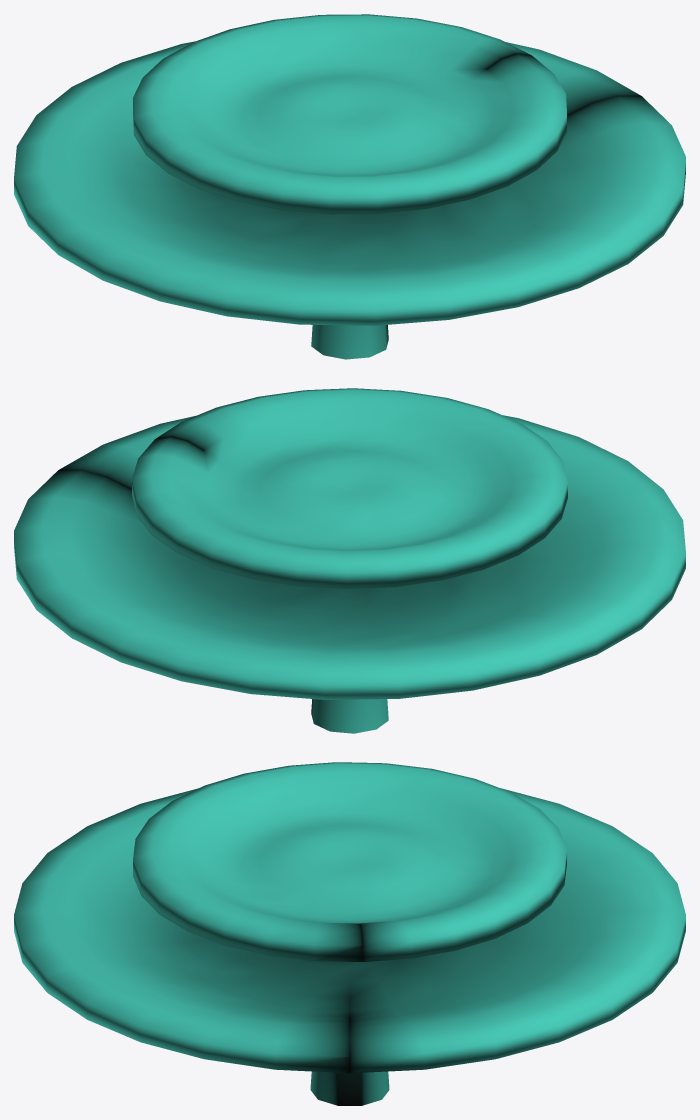
File: coral_table.glb
The picture shows the model from 3 angles, top to bottom: view 1: azimuth 30°, elevation 25°; view 2: azimuth 150°, elevation 25°; view 3: azimuth 270°, elevation 25°; orthographic projection.
Parts seen in each view (by area): view 1: coral_table_mesh; view 2: coral_table_mesh; view 3: coral_table_mesh.
Boxes of the visible parts, left/top/right/bottom form: coral_table_mesh: left=14, top=14, right=685, bottom=359; coral_table_mesh: left=14, top=388, right=685, bottom=733; coral_table_mesh: left=14, top=762, right=685, bottom=1105.
Bounding box in the file's own units: 2.21 × 0.8783 × 2.21.
